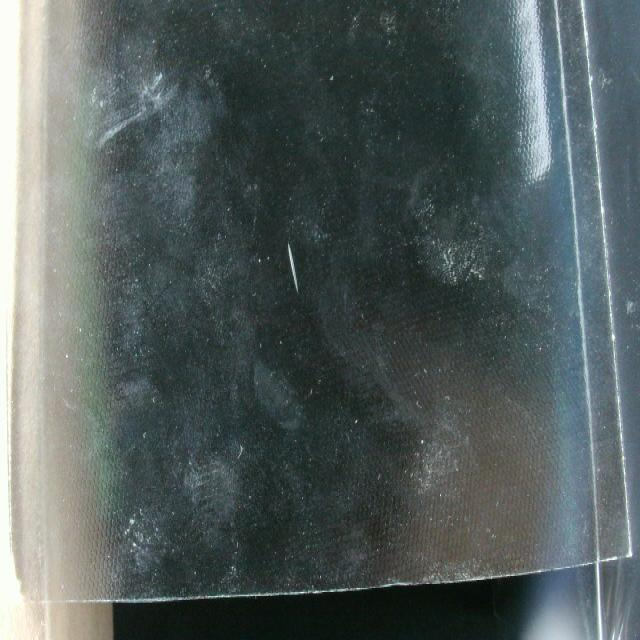edge_chip: (376, 566, 426, 596)
scratch: (281, 235, 305, 305)
